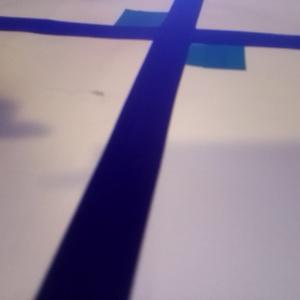bottom_right: (153, 32, 245, 70)
top_left: (114, 8, 193, 38)
